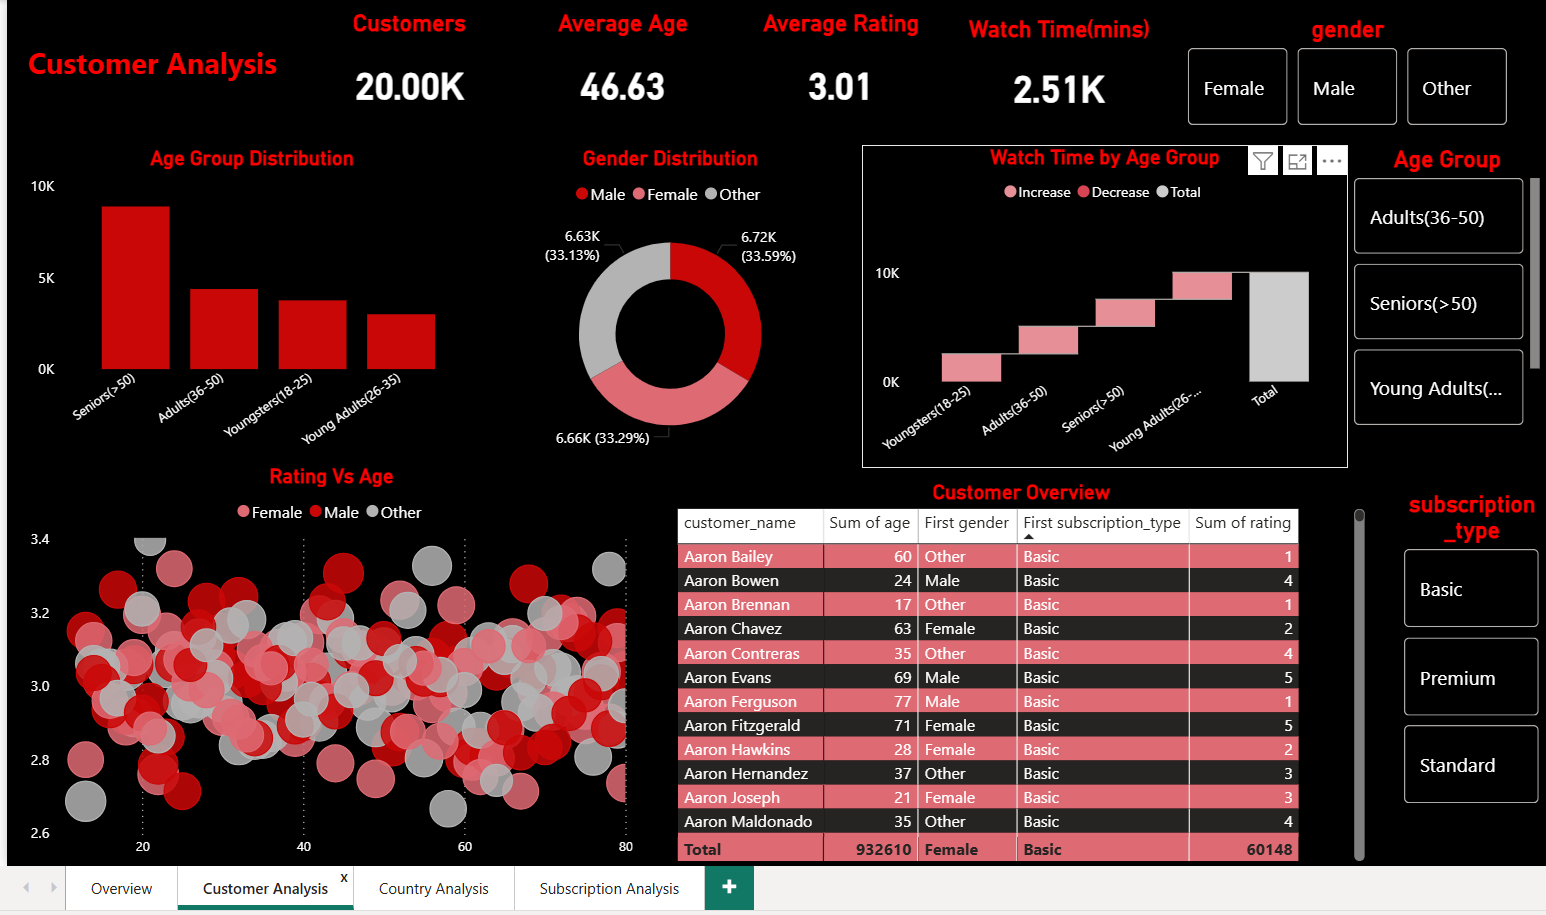

The dashboard page shown, as its layout file describes it:
{"tool":"powerbi","page":{"name":"Customer Analysis","canvas":[1280,720],"ordinal":1},"visuals":[{"type":"card","title":"Customers","fields":{"Values":["CountNonNull(Netflix Ratings.customer_id)"]},"box":[241.9,8.1,185.1,101.4],"z":0},{"type":"card","title":"Watch Time(mins)","fields":{"Values":["Avg(Netflix Ratings.Watch Time (Minutes))"]},"box":[789.2,13.5,171.6,95.9],"z":1000},{"type":"card","title":"Average Age","fields":{"Values":["Avg(Netflix Ratings.age)"]},"box":[427,8.1,170.3,101.4],"z":2000},{"type":"card","title":"Average Rating","fields":{"Values":["Avg(Netflix Ratings.rating)"]},"box":[597.3,8.1,191.9,101.4],"z":3000},{"type":"columnChart","title":"Age Group Distribution","fields":{"Category":["Netflix Ratings.Age Group"],"Y":["CountNonNull(Netflix Ratings.customer_id)"]},"box":[14.9,121.6,378.4,263.5],"z":4000},{"type":"donutChart","title":"Gender Distribution","fields":{"Category":["Netflix Ratings.gender"],"Y":["CountNonNull(Netflix Ratings.show_id)"]},"box":[393.2,121.6,317.6,263.5],"z":5000},{"type":"waterfallChart","title":"Watch Time by Age Group","fields":{"Category":["Netflix Ratings.Age Group"],"Y":["Avg(Netflix Ratings.Watch Time (Minutes))"]},"box":[710.8,120.3,404.1,268.9],"z":6000},{"type":"scatterChart","title":"Rating Vs Age","fields":{"X":["Netflix Ratings.age"],"Y":["Avg(Netflix Ratings.rating)"],"Size":["Sum(Netflix Ratings.Watch Time (Minutes))"],"Series":["Netflix Ratings.gender"]},"box":[14.9,385.1,510.8,335.1],"z":7000},{"type":"advancedSlicerVisual","fields":{"Values":["Netflix Ratings.gender"]},"box":[977,13.5,275.7,95.9],"z":8000},{"type":"advancedSlicerVisual","fields":{"Values":["Netflix Ratings.subscription_type"]},"box":[1156.8,408.1,123,266.2],"z":9000},{"type":"advancedSlicerVisual","fields":{"Values":["Netflix Ratings.Age Group"]},"box":[1114.9,121.6,164.9,237.8],"z":10000},{"type":"textbox","box":[0,13.5,241.9,89.2],"z":11000},{"type":"pivotTable","title":"Customer Overview","fields":{"Rows":["Netflix Ratings.customer_name"],"Values":["Sum(Netflix Ratings.age)","Min(Netflix Ratings.gender)","Min(Netflix Ratings.subscription_type)","Sum(Netflix Ratings.rating)"]},"box":[552.7,398.6,581.1,321.6],"z":12000}]}

Visuals, with their boxes on the page's 1280x720 design canvas (x1, y1, x2, y2). These are canvas units, not pixel positions in the 1546x915 screenshot, which may show the page scaled, cropped or inside an application window:
"Customers" card: select_region(242, 8, 427, 110)
"Watch Time(mins)" card: select_region(789, 14, 961, 109)
"Average Age" card: select_region(427, 8, 597, 110)
"Average Rating" card: select_region(597, 8, 789, 110)
"Age Group Distribution" columnChart: select_region(15, 122, 393, 385)
"Gender Distribution" donutChart: select_region(393, 122, 711, 385)
"Watch Time by Age Group" waterfallChart: select_region(711, 120, 1115, 389)
"Rating Vs Age" scatterChart: select_region(15, 385, 526, 720)
advancedSlicerVisual - Netflix Ratings.gender: select_region(977, 14, 1253, 109)
advancedSlicerVisual - Netflix Ratings.subscription_type: select_region(1157, 408, 1280, 674)
advancedSlicerVisual - Netflix Ratings.Age Group: select_region(1115, 122, 1280, 359)
textbox: select_region(0, 14, 242, 103)
"Customer Overview" pivotTable: select_region(553, 399, 1134, 720)
